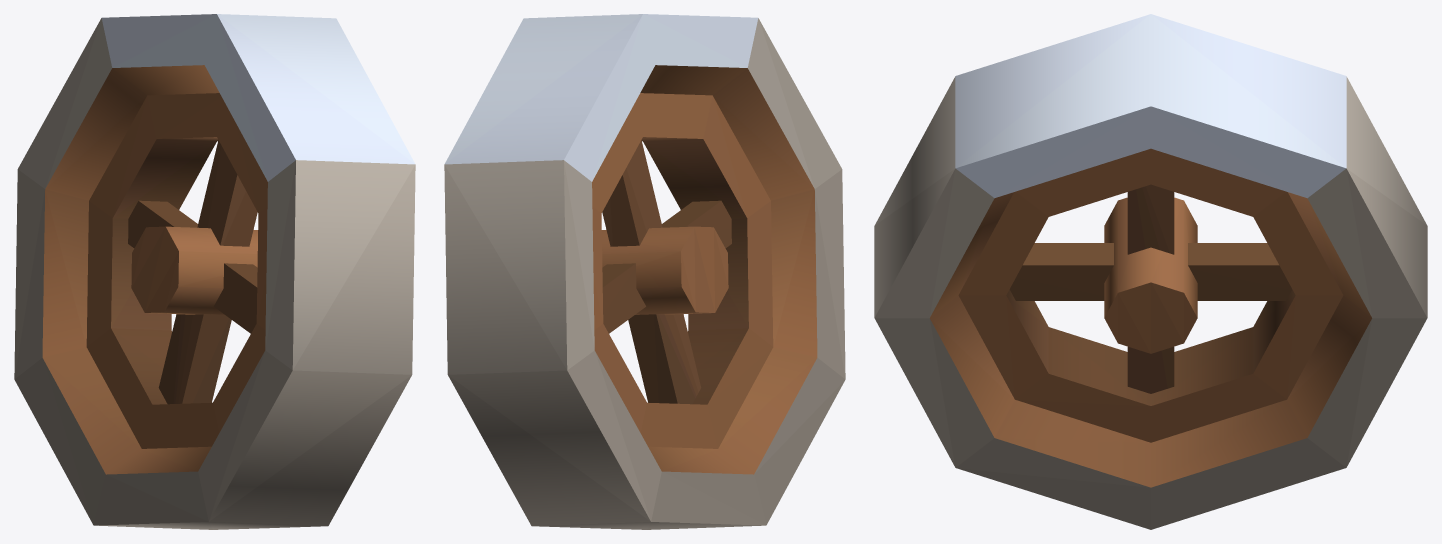
File: kenney_town_wheel.glb
3 views of the same model, side by side, from view 1: azimuth 30°, elevation 25°; view 2: azimuth 150°, elevation 25°; view 3: azimuth 270°, elevation 25° (orthographic).
Parts seen in each view (by area): view 1: stone, wood, cloth; view 2: stone, wood, cloth; view 3: wood, stone, cloth.
Part boxes in pixels (x1=…): stone: x1=14, y1=18, x2=415, y2=529; wood: x1=42, y1=65, x2=267, y2=474; cloth: x1=101, y1=14, x2=414, y2=181; stone: x1=444, y1=18, x2=845, y2=529; wood: x1=592, y1=65, x2=817, y2=474; cloth: x1=445, y1=14, x2=758, y2=181; wood: x1=930, y1=148, x2=1371, y2=487; stone: x1=874, y1=77, x2=1427, y2=529; cloth: x1=955, y1=14, x2=1346, y2=198.
Bounding box in the file's own units: 0.2384 × 0.4833 × 0.4678.
